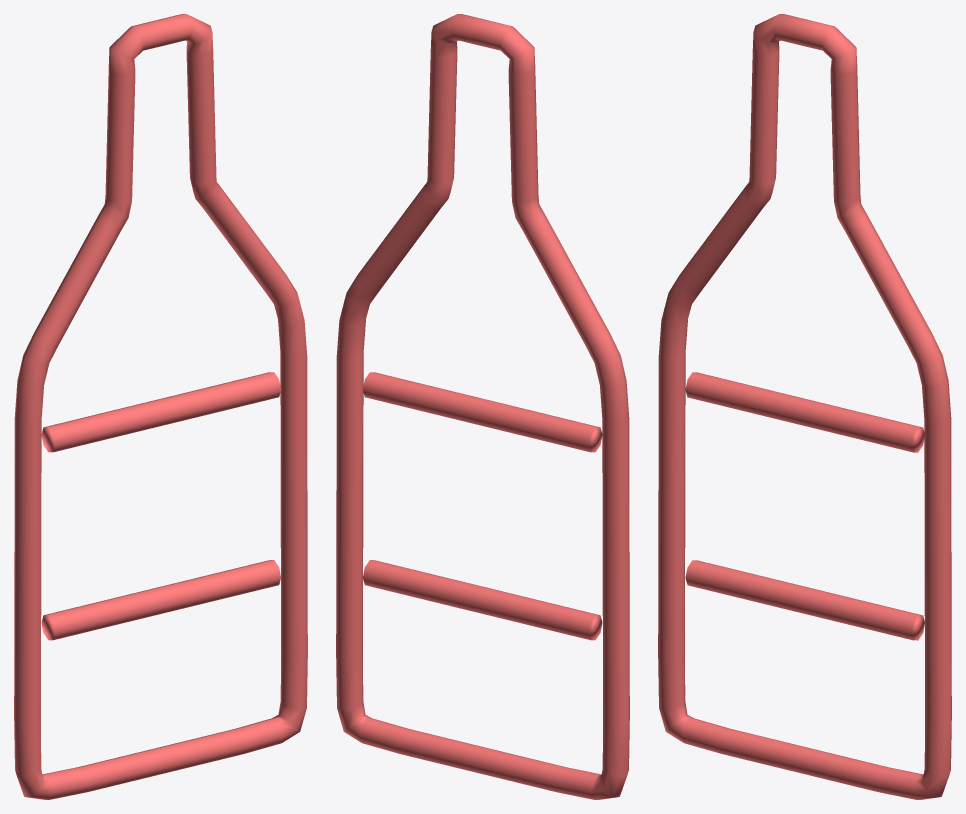
Rendered from AlcoholNeon_01.fbx.
The picture shows the model from 3 angles, left to right: view 1: azimuth 30°, elevation 25°; view 2: azimuth 150°, elevation 25°; view 3: azimuth 330°, elevation 25°; orthographic projection.
Parts seen in each view (by area): view 1: AlcoholNeon_01; view 2: AlcoholNeon_01; view 3: AlcoholNeon_01.
Boxes of the visible parts, x1,y1,x2,y2 form: AlcoholNeon_01: (14, 14, 307, 799); AlcoholNeon_01: (336, 14, 629, 799); AlcoholNeon_01: (658, 14, 951, 799).
Size of the model in its own units: 480 by 1187 by 39.64.
